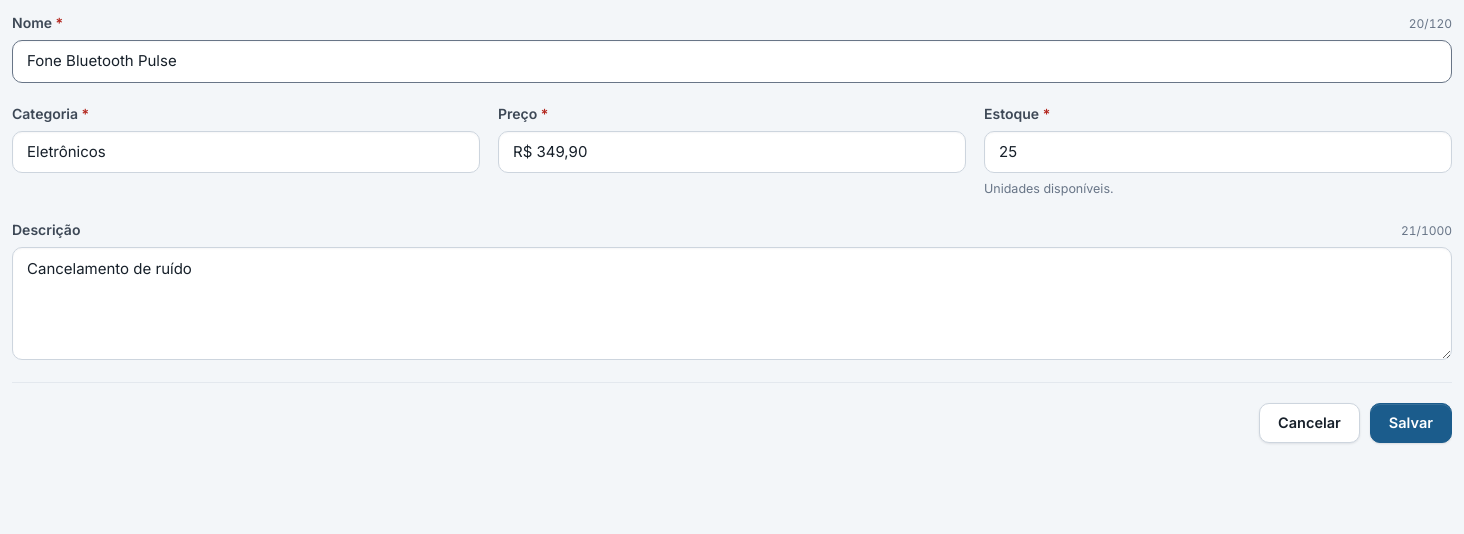
it: ProductForm — o mesmo formulário para criar e editar › mostra erro de rede sem perder o que foi digitado
Replace the text in the field labelled "Nome *" with "Nome novo": coordinates (732, 61) [12,40,1452,82]
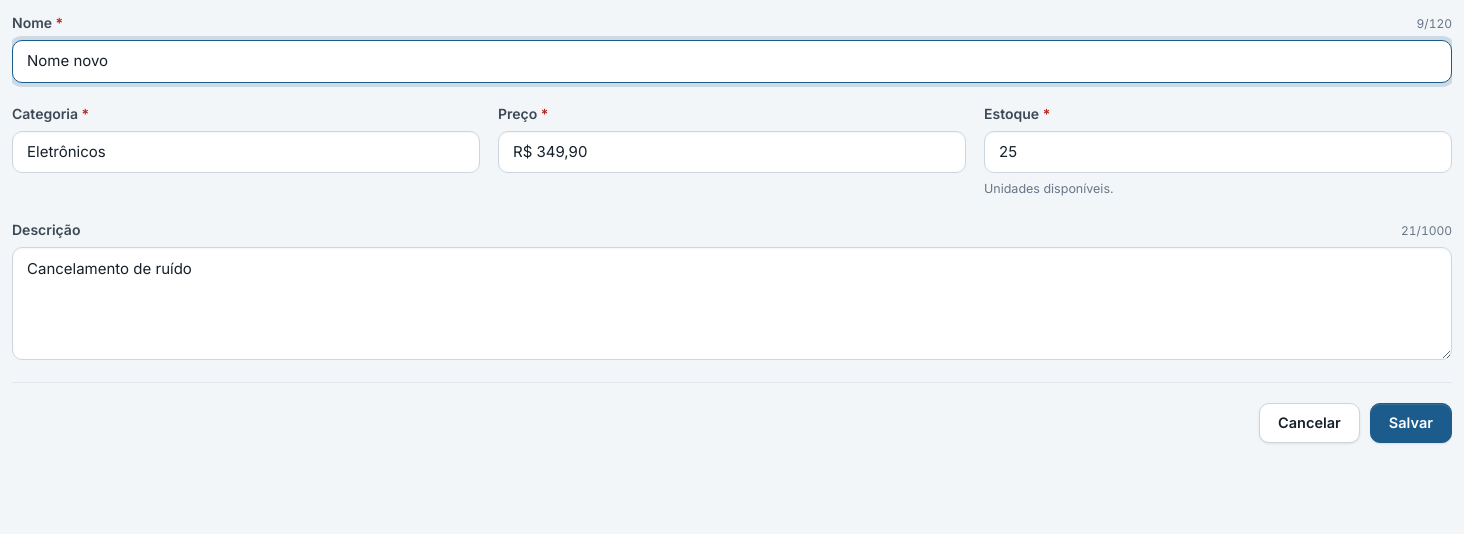
Click the button "Salvar": coordinates (1411, 423) [1370,403,1452,443]
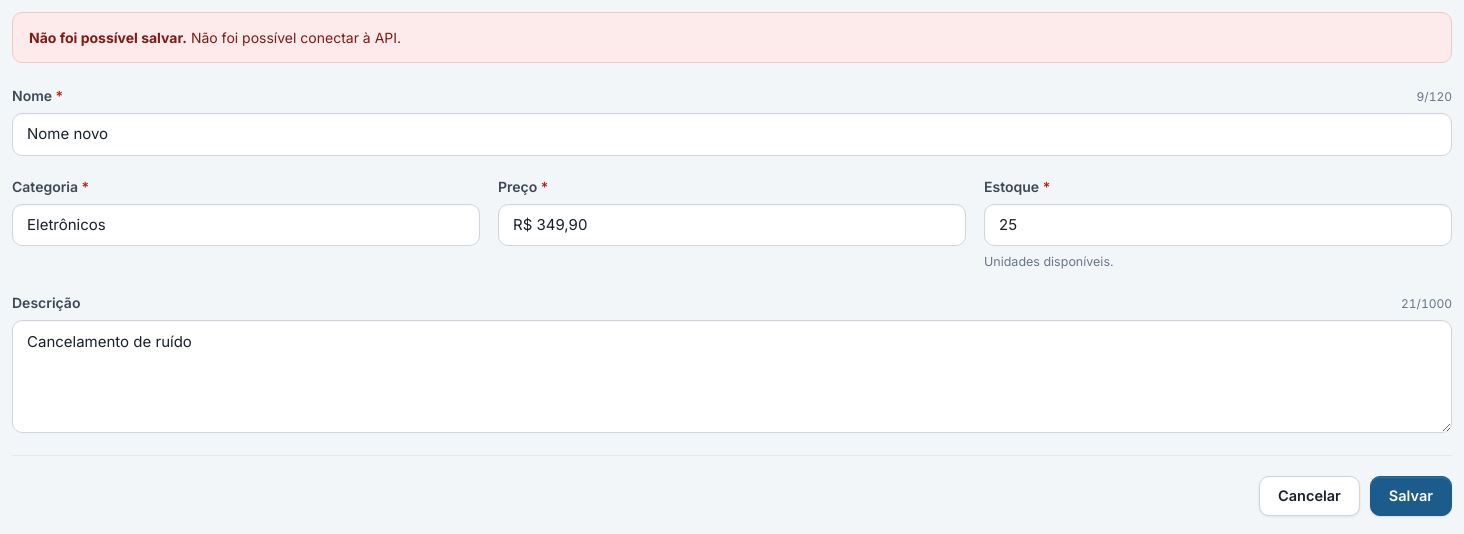
Result: the text "Não foi possível salvar. Não foi possível conectar à API." is shown at [12,12,1452,63]
